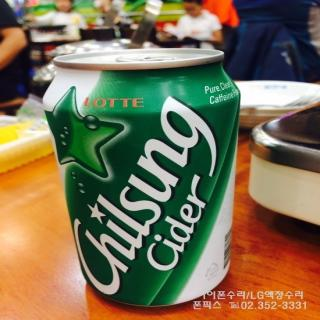cocacola: (40, 46, 243, 308)
